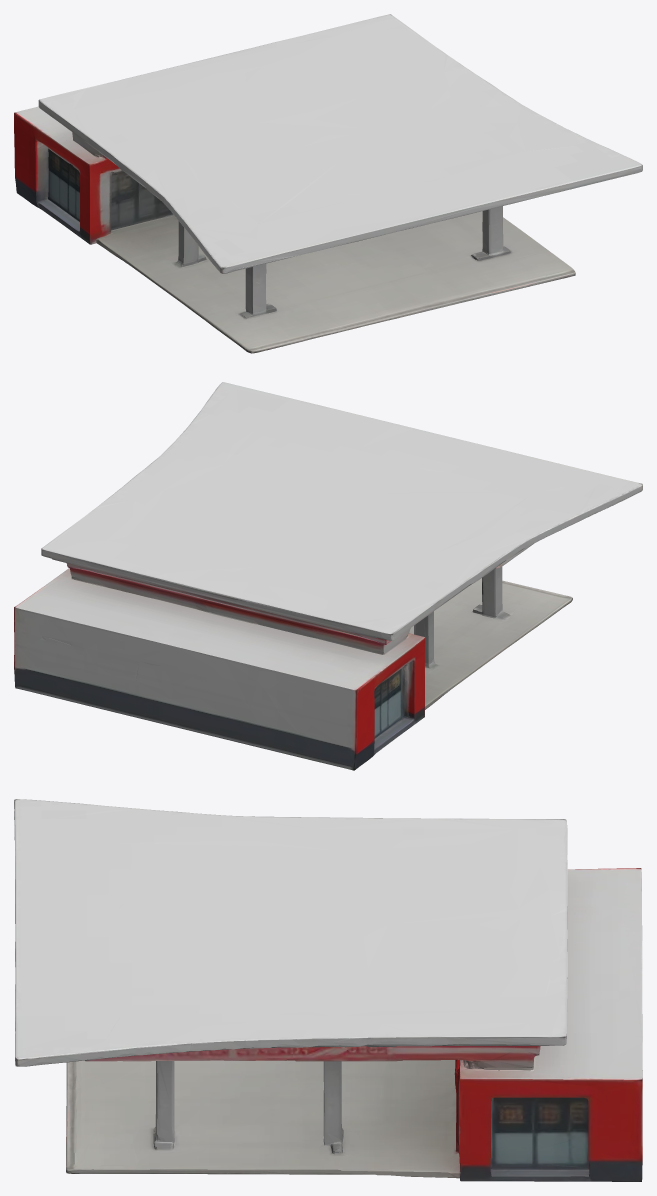
The picture shows the model from 3 angles, top to bottom: view 1: azimuth 30°, elevation 25°; view 2: azimuth 150°, elevation 25°; view 3: azimuth 270°, elevation 25°; orthographic projection. The views are drawn at different scales.
Visible parts, largest first — view 1: geometry_0; view 2: geometry_0; view 3: geometry_0.
Part boxes in pixels (bbox=[...]): geometry_0: bbox=[14, 14, 642, 353]; geometry_0: bbox=[14, 382, 642, 770]; geometry_0: bbox=[14, 799, 642, 1181].
Bounding box in the file's own units: 0.9757 × 0.2604 × 0.9951.
1 material, 1 textured.
